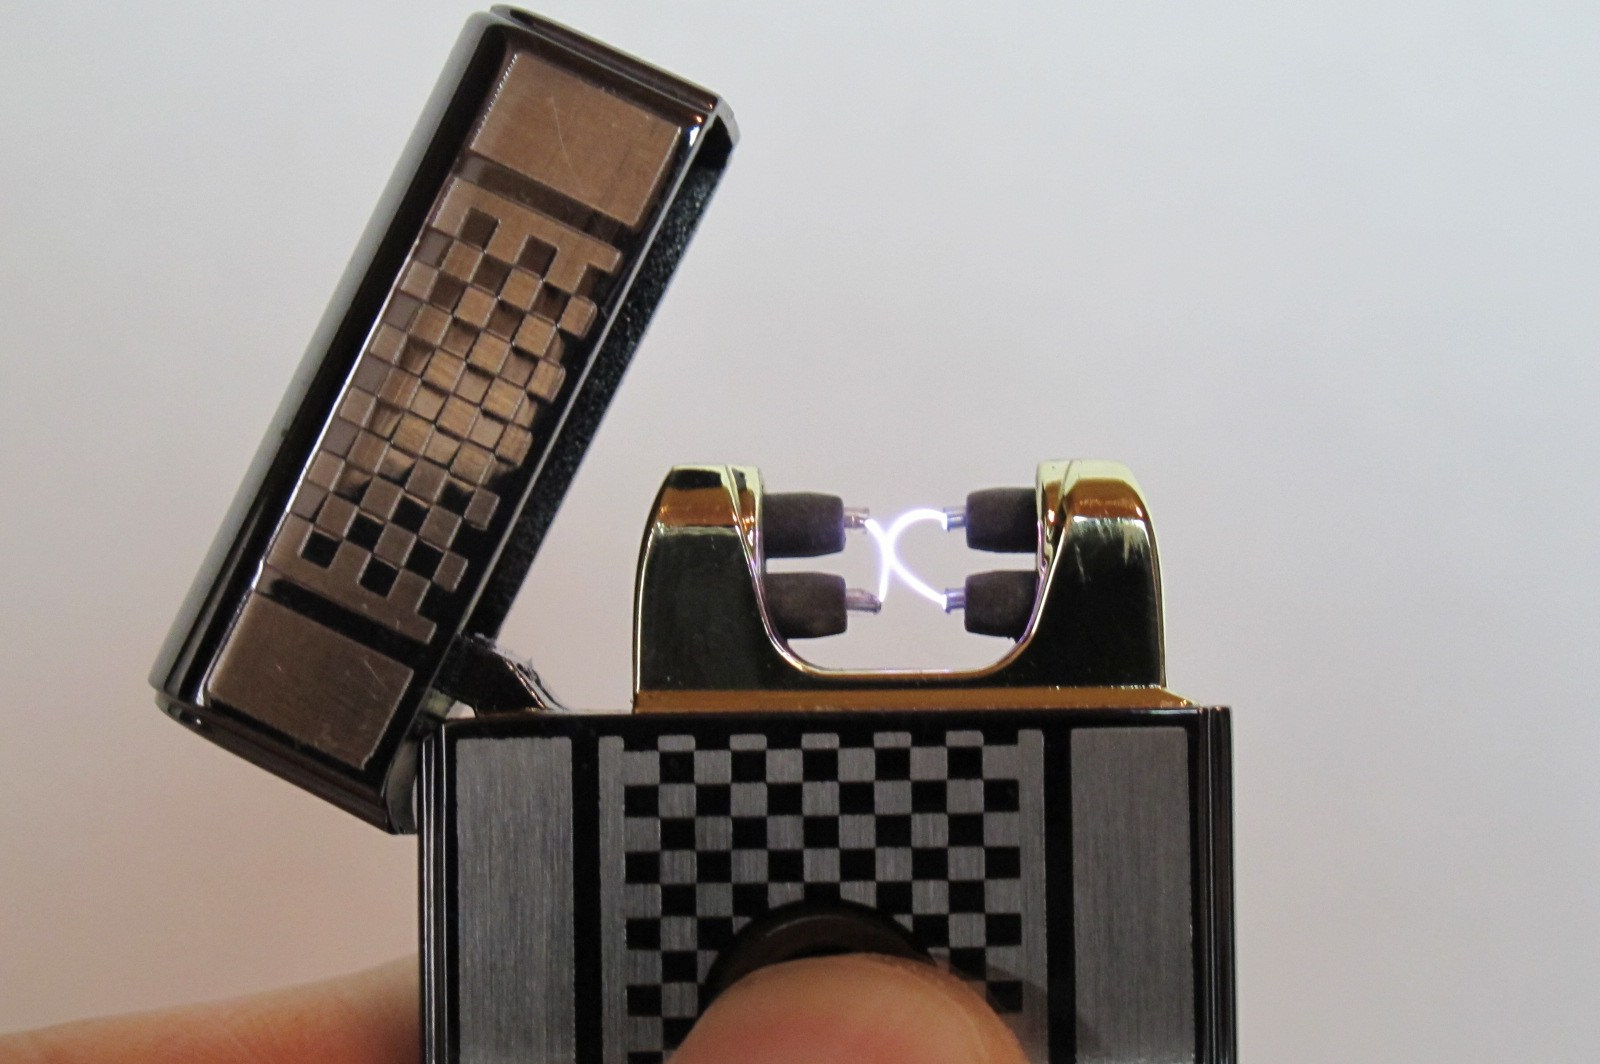Nonrec_Other: (112, 26, 1322, 1046)
